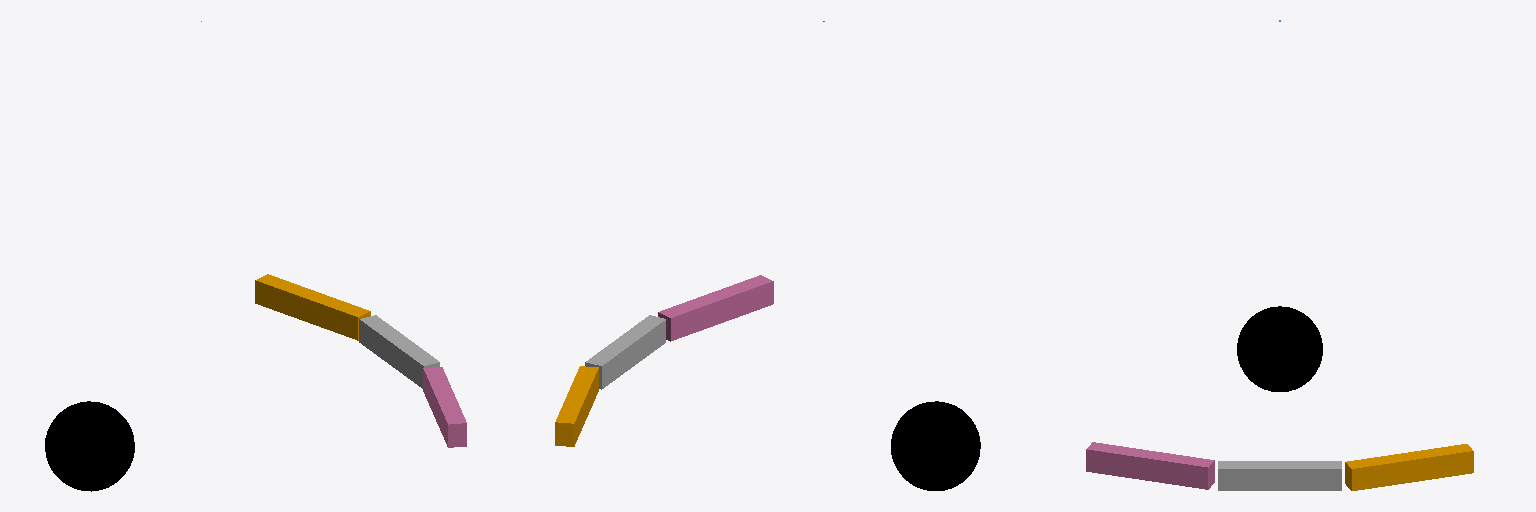
URDF robot description (evarobot):
<?xml version="1.0"?>
<robot name="evarobot">

<!-- Base -->
  <link name="base_link">
    <collision>
      <origin rpy="0 0 0" xyz="0 0 0"/>
      <geometry>
	<box size="0.30 0.251 0.3005"/>
      </geometry>
    </collision>

    <visual>
     <origin xyz="0.05 0 -0.1475" rpy="0 0 1.5708" /> 
      <geometry>
        <mesh filename="package://evarobot_description/meshes/evarobot_all.stl" scale="0.001 0.001 0.001"/> 
      </geometry>
      <material name="blue">
        <color rgba="0 0 .8 1"/>
      </material>
    </visual>

    <inertial>
      <origin xyz="0 0 0" rpy="0 0 0"/>
      <mass value="5"/>
      <inertia
        ixx="5.0" ixy="0.0" ixz="0.0"
        iyy="5.0" iyz="0.0"
        izz="5.0"/>
    </inertial>
  </link>

<!-- Left Wheel -->
    
   <link name="left_front_wheel">
    <collision>
      <origin rpy="1.57075 0 0" xyz="0 0 0"/>
      <geometry>
        <cylinder length=".024" radius="0.0675"/>
      </geometry>
    </collision>
    
<!--<visual>
	<origin rpy="0 -1.57075 0" xyz="0 0 +0.01"/>
      <geometry>
		 <cylinder length=".024" radius="0.0675"/>  
		     <mesh filename="package://evarobot_description/meshes/wheel.stl" scale="0.001 0.001 0.001"/>
      </geometry>
      <material name="black"/> 		
    </visual>-->
    
    <inertial>
      <origin xyz="0 0 0" rpy="0 0 0"/>
      <mass value="0.75"/>
      <inertia ixx="1e-2" ixy="0" ixz="0" iyy="1e-2" iyz="0" izz="1e-2" />
    </inertial>
    
  </link>
  
  <joint name="left_front_wheel_joint" type="continuous">
    <axis xyz="0 1 0"/>
    <parent link="base_link"/>
    <child link="left_front_wheel"/>
    <origin rpy="0 0 0" xyz="0.04975 0.1375 -0.11775"/>
    <limit effort="100" velocity="100"/>
    <joint_properties damping="0.0" friction="0.0"/>
  </joint>
 
 <!-- Sag Teker -->
 
   <link name="right_front_wheel">
	  <collision>
      <origin rpy="1.57075 0 0" xyz="0 0 0"/>
      <geometry>
        <cylinder length=".024" radius="0.0675"/>
      </geometry>
    </collision>
       
  <!--  <visual>
		<origin rpy="0 -1.57075 0" xyz="0 0 -0.01"/>
      <geometry>
     <cylinder length=".024" radius="0.0675"/> 
     <mesh filename="package://evarobot_description/meshes/wheel.stl" scale="0.001 0.001 0.001"/>
      </geometry>
      <material name="black"/> 		
    </visual>
    -->
    <inertial>
      <origin xyz="0 0 0" rpy="0 0 0"/>
      <mass value="0.75"/>
      <inertia ixx="1e-2" ixy="0" ixz="0" iyy="1e-2" iyz="0" izz="1e-2" />
    </inertial>
    
  </link>
  
  <joint name="right_front_wheel_joint" type="continuous">
    <axis xyz="0 1 0"/>
    <parent link="base_link"/>
    <child link="right_front_wheel"/>
    <origin rpy="0 0 0" xyz="0.04975 -0.1375 -0.11775"/>
    <limit effort="100" velocity="100"/>
    <joint_properties damping="0.0" friction="0.0"/>
  </joint>
  
 
   <!-- Caster -->
  <link name="caster_wheel">
	<collision>
      <origin rpy="0 0 0" xyz="0 0 0"/>
      <geometry>
        <sphere radius="0.035"/>
      </geometry>
    </collision>
    	  
    <visual>
      <geometry>
        <sphere radius="0.035"/>
      </geometry>
      <material name="black">
        <color rgba="0 0 0 1"/>
      </material>
    </visual>
    
    <inertial>
      <origin xyz="0 0 0" rpy="0 0 0"/>
      <mass value="5"/>
      <inertia ixx="1e-6" ixy="0" ixz="0" iyy="1e-6" iyz="0" izz="1e-6" />
    </inertial>
  </link>
  

  
  <joint name="caster_wheel_joint" type="continuous">
    <parent link="base_link"/>
    <child link="caster_wheel"/>
    <origin rpy="-1.57075 0 0" xyz="-0.1 0 -0.15025"/>
 <!--   <axis xyz="0.707106781 0 0.707106781"/> -->
    <axis xyz="0.577350269 0.577350269 0.577350269"/>
    <limit effort="100" velocity="100"/>
    <joint_properties damping="0.0" friction="0.0"/>
  </joint>


  
  <!-- Hokuyo Laser -->
<!--  <link name="laser">
    <collision>
      <origin xyz="0 0 0" rpy="0 0 0"/>
      <geometry>
    <box size="0.1 0.1 0.1"/>
      </geometry>
    </collision>

    <visual>
      <origin xyz="0 0 0" rpy="0 0 0"/>
      <geometry>
        <mesh filename="package://evarobot_description/meshes/hokuyo.dae"/>
      </geometry>
    </visual>

    <inertial>
      <mass value="1e-5" />
      <origin xyz="0 0 0" rpy="0 0 0"/>
      <inertia ixx="1e-6" ixy="0" ixz="0" iyy="1e-6" iyz="0" izz="1e-6" />
    </inertial>
  </link>
  
  -->

  <!-- Hokuyo Laser -->
<!-- 
  <joint name="hokuyo_joint" type="fixed">
    <axis xyz="0 1 0" />
    <origin xyz="-0.09 0 0.4275" rpy="0 0 -1.5708"/>
    <parent link="base_link"/>
    <child link="laser"/>
  </joint>
  -->


  <link name="camera_depth_optical_frame">
    <collision>
      <origin xyz="0 0 0" rpy="0 0 0"/>
      <geometry>
    <box size="0.1 0.1 0.1"/>
      </geometry>
    </collision>


    <inertial>
      <mass value="1e-5" />
      <origin xyz="0 0 0" rpy="0 0 0"/>
      <inertia ixx="1e-6" ixy="0" ixz="0" iyy="1e-6" iyz="0" izz="1e-6" />
    </inertial>
  </link>
  
  <!-- Kinect joint -->
   <joint name="kinect_jointx" type="fixed">
    <axis xyz="0 1 0" />
    <origin xyz="-0.09 0 0.4275" rpy="-1.5707  0 -1.5707"/>
    <parent link="base_link"/>
    <child link="camera_depth_optical_frame"/>
  </joint>

  
 <!-- Kinect Link -->
  <link name="sensor/kinect">
    <collision>
      <origin xyz="0 0 0" rpy="0 0 0"/>
      <geometry>
    <box size="0.1 0.1 0.1"/>
      </geometry>
    </collision>

    <visual>
      <origin xyz="0 0 0" rpy="0 0 0"/>
      <geometry>
        <mesh filename="package://evarobot_description/meshes/kinect.dae"/>
      </geometry>
    </visual>

    <inertial>
      <mass value="1e-5" />
      <origin xyz="0 0 0" rpy="0 0 0"/>
      <inertia ixx="1e-6" ixy="0" ixz="0" iyy="1e-6" iyz="0" izz="1e-6" />
    </inertial>
  </link>
  
  <!-- Kinect joint -->
   <joint name="kinect_joint" type="fixed">
    <axis xyz="0 1 0" />
    <origin xyz="-0.09 0 0.4275" rpy="0 0 0"/>
    <parent link="base_link"/>
    <child link="sensor/kinect"/>
  </joint>
  

<!-- ////////////////////////////////////////////////////////////////// -->
<!-- ////////////////////////////   BUMPER   ////////////////////////// -->
<!-- ////////////////////////////////////////////////////////////////// -->

<!-- Bumper0 Link -->
  <link name="bumper0">
    <collision>
      <origin xyz="0 0 0" rpy="0 0 0"/>
      <geometry>
		<box size="0.015 0.105 0.020"/>
      </geometry>
    </collision>

    <visual>
      <origin xyz="0 0 0" rpy="0 0 0"/>
      <geometry>
		<box size="0.015 0.105 0.020"/>
      </geometry>
    </visual>

    <inertial>
      <mass value="1e-5" />
      <origin xyz="0 0 0" rpy="0 0 0"/>
      <inertia ixx="1e-6" ixy="0" ixz="0" iyy="1e-6" iyz="0" izz="1e-6" />
    </inertial>
  </link>
  
  <!-- Bumper0 joint -->
   <joint name="bumper0_joint" type="fixed">
    <axis xyz="0 1 0" />
    <origin xyz="0.1575 -0.105 -0.1345" rpy="0 0 -0.34"/>
    <parent link="base_link"/>
    <child link="bumper0"/>
  </joint>
  

<!-- Bumper1 Link -->
  <link name="bumper1">
    <collision>
      <origin xyz="0 0 0" rpy="0 0 0"/>
      <geometry>
		<box size="0.015 0.10 0.020"/>
      </geometry>
    </collision>

    <visual>
      <origin xyz="0 0 0" rpy="0 0 0"/>
      <geometry>
		<box size="0.015 0.10 0.020"/>
      </geometry>
    </visual>

    <inertial>
      <mass value="1e-5" />
      <origin xyz="0 0 0" rpy="0 0 0"/>
      <inertia ixx="1e-6" ixy="0" ixz="0" iyy="1e-6" iyz="0" izz="1e-6" />
    </inertial>
  </link>
  
  <!-- Bumper1 joint -->
   <joint name="bumper1_joint" type="fixed">
    <axis xyz="0 1 0" />
    <origin xyz="0.1775 0 -0.1345" rpy="0 0 0"/>
    <parent link="base_link"/>
    <child link="bumper1"/>
  </joint>
  
<!-- Bumper2 Link -->
  <link name="bumper2">
    <collision>
      <origin xyz="0 0 0" rpy="0 0 0"/>
      <geometry>
		<box size="0.015 0.105 0.020"/>
      </geometry>
    </collision>

    <visual>
      <origin xyz="0 0 0" rpy="0 0 0"/>
      <geometry>
		<box size="0.015 0.105 0.020"/>
      </geometry>
    </visual>

    <inertial>
      <mass value="1e-5" />
      <origin xyz="0 0 0" rpy="0 0 0"/>
      <inertia ixx="1e-6" ixy="0" ixz="0" iyy="1e-6" iyz="0" izz="1e-6" />
    </inertial>
  </link>
  
  <!-- Bumper2 joint -->
   <joint name="bumper2_joint" type="fixed">
    <axis xyz="0 1 0" />
    <origin xyz="0.1605 0.105 -0.1345" rpy="0 0 0.34"/>
    <parent link="base_link"/>
    <child link="bumper2"/>
  </joint>
	
<!-- ////////////////////////////////////////////////////////////////// -->
<!-- ////////////////////////   BUMPER (END) ////////////////////////// -->
<!-- ////////////////////////////////////////////////////////////////// -->


  <joint name="imu_joint" type="fixed">
    <axis xyz="1 0 0"/> <!-- 0 1 0 -->
    <origin xyz="0 0 0.19"/>
    <parent link="base_link"/>
    <child link="sensor/imu"/>
  </joint>


<link name="sensor/imu">
  <inertial>
    <mass value="0.001"/>
    <origin rpy="0 0 0" xyz="0 0 0"/>
    <inertia ixx="0.0001" ixy="0" ixz="0" iyy="0.000001" iyz="0" izz="0.0001"/>
  </inertial>
  <visual>
    <origin rpy="0 0 0" xyz="0 0 0"/>
    <geometry>
      <box size="0.001 0.001 0.001"/>
    </geometry>
  </visual>
  <collision>
    <origin rpy="0 0 0" xyz="0 0 0"/>
    <geometry>
      <box size=".001 .001 .001"/>
    </geometry>
  </collision>
</link>


<!-- SONAR -->


  <joint name="sonar0_joint" type="fixed">
    <axis xyz="1 0 0"/> <!-- 0 1 0 -->
    <origin xyz="0.14 0 0.0275" rpy="0 0 0"/>
    <parent link="base_link"/>
    <child link="sensor/sonar0"/>
  </joint>

<link name="sensor/sonar0">
      <inertial>
        <mass value="0.001" />
        <origin xyz="0 0 0" rpy="0 0 0" />
        <inertia ixx="0.000000017" ixy="0" ixz="0" iyy="0.000000017" iyz="0" izz="0.000000017" />
      </inertial>
      <visual>
        <origin xyz="0 0 0" rpy="0 0 0" />
        <geometry>
          <mesh filename="package://evarobot_description/meshes/sonar_sensor/max_sonar_ez4.dae"/>
        </geometry>
      </visual>
      <collision>
        <origin xyz="0 0 0" rpy="0 0 0" />
        <geometry>
          <box size="0.01 0.01 0.01" />
        </geometry>
      </collision>
    </link>

   
    <!-- Sonar 1 -->
  <joint name="sonar1_joint" type="fixed">
    <axis xyz="1 0 0"/> <!-- 0 1 0 -->
    <origin xyz="0.0 0.145 0.0275" rpy="0 0 1.5708"/>
    <parent link="base_link"/>
    <child link="sensor/sonar1"/>
  </joint>

<link name="sensor/sonar1">
      <inertial>
        <mass value="0.001" />
        <origin xyz="0 0 0" rpy="0 0 0" />
        <inertia ixx="0.000000017" ixy="0" ixz="0" iyy="0.000000017" iyz="0" izz="0.000000017" />
      </inertial>
      <visual>
        <origin xyz="0 0 0" rpy="0 0 0" />
        <geometry>
          <mesh filename="package://evarobot_description/meshes/sonar_sensor/max_sonar_ez4.dae"/>
        </geometry>
      </visual>
      <collision>
        <origin xyz="0 0 0" rpy="0 0 0" />
        <geometry>
          <box size="0.01 0.01 0.01" />
        </geometry>
      </collision>
    </link>
    
      <!-- Sonar 2 -->
  <joint name="sonar2_joint" type="fixed">
    <axis xyz="1 0 0"/> <!-- 0 1 0 -->
     <origin xyz="-0.14 0 0.0275" rpy="0 0 3.1416"/>
    <parent link="base_link"/>
    <child link="sensor/sonar2"/>
  </joint>

<link name="sensor/sonar2">
      <inertial>
        <mass value="0.001" />
        <origin xyz="0 0 0" rpy="0 0 0" />
        <inertia ixx="0.000000017" ixy="0" ixz="0" iyy="0.000000017" iyz="0" izz="0.000000017" />
      </inertial>
      <visual>
        <origin xyz="0 0 0" rpy="0 0 0" />
        <geometry>
          <mesh filename="package://evarobot_description/meshes/sonar_sensor/max_sonar_ez4.dae"/>
        </geometry>
      </visual>
      <collision>
        <origin xyz="0 0 0" rpy="0 0 0" />
        <geometry>
          <box size="0.01 0.01 0.01" />
        </geometry>
      </collision>
    </link>

  
     <!-- Sonar 3 -->
  <joint name="sonar3_joint" type="fixed">
    <axis xyz="1 0 0"/> <!-- 0 1 0 -->
    <origin xyz="0.0 -0.145 0.0275" rpy="0 0 -1.5708"/>
    <parent link="base_link"/>
    <child link="sensor/sonar3"/>
  </joint>

<link name="sensor/sonar3">
      <inertial>
        <mass value="0.001" />
        <origin xyz="0 0 0" rpy="0 0 0" />
        <inertia ixx="0.000000017" ixy="0" ixz="0" iyy="0.000000017" iyz="0" izz="0.000000017" />
      </inertial>
      <visual>
        <origin xyz="0 0 0" rpy="0 0 0" />
        <geometry>
          <mesh filename="package://evarobot_description/meshes/sonar_sensor/max_sonar_ez4.dae"/>
        </geometry>
      </visual>
      <collision>
        <origin xyz="0 0 0" rpy="0 0 0" />
        <geometry>
          <box size="0.01 0.01 0.01" />
        </geometry>
      </collision>
    </link>

   
     <!-- IR 0 -->
  <joint name="ir0_joint" type="fixed">
    <axis xyz="1 0 0"/> <!-- 0 1 0 -->
    <origin xyz="0.1175 -0.085 -0.1075" rpy="0 0 -0.60"/>
    <parent link="base_link"/>
    <child link="sensor/ir0"/>
  </joint>

<link name="sensor/ir0">
      <inertial>
        <mass value="0.001" />
        <origin xyz="0 0 0" rpy="0 0 0" />
        <inertia ixx="0.000000017" ixy="0" ixz="0" iyy="0.000000017" iyz="0" izz="0.000000017" />
      </inertial>
      <visual>
        <origin xyz="0 0 0" rpy="0 0 0" />
        <geometry>
          <mesh filename="package://evarobot_description/meshes/sonar_sensor/max_sonar_ez4.dae"/>
        </geometry>
      </visual>
      <collision>
        <origin xyz="0 0 0" rpy="0 0 0" />
        <geometry>
          <box size="0.01 0.01 0.01" />
        </geometry>
      </collision>
    </link>

   
    <!-- IR 1 -->
  <joint name="ir1_joint" type="fixed">
    <axis xyz="1 0 0"/> <!-- 0 1 0 -->
    <origin xyz="0.1475 0 -0.1075" rpy="0 0 0"/>
    <parent link="base_link"/>
    <child link="sensor/ir1"/>
  </joint>

<link name="sensor/ir1">
      <inertial>
        <mass value="0.001" />
        <origin xyz="0 0 0" rpy="0 0 0" />
        <inertia ixx="0.000000017" ixy="0" ixz="0" iyy="0.000000017" iyz="0" izz="0.000000017" />
      </inertial>
      <visual>
        <origin xyz="0 0 0" rpy="0 0 0" />
        <geometry>
          <mesh filename="package://evarobot_description/meshes/sonar_sensor/max_sonar_ez4.dae"/>
        </geometry>
      </visual>
      <collision>
        <origin xyz="0 0 0" rpy="0 0 0" />
        <geometry>
          <box size="0.01 0.01 0.01" />
        </geometry>
      </collision>
    </link>

 
    
    <!-- IR 2 -->
  <joint name="ir2_joint" type="fixed">
    <axis xyz="1 0 0"/> <!-- 0 1 0 -->
    <origin xyz="0.1225 0.085 -0.1075" rpy="0 0 0.60"/>
    <parent link="base_link"/>
    <child link="sensor/ir2"/>
  </joint>

<link name="sensor/ir2">
      <inertial>
        <mass value="0.001" />
        <origin xyz="0 0 0" rpy="0 0 0" />
        <inertia ixx="0.000000017" ixy="0" ixz="0" iyy="0.000000017" iyz="0" izz="0.000000017" />
      </inertial>
      <visual>
        <origin xyz="0 0 0" rpy="0 0 0" />
        <geometry>
          <mesh filename="package://evarobot_description/meshes/sonar_sensor/max_sonar_ez4.dae"/>
        </geometry>
      </visual>
      <collision>
        <origin xyz="0 0 0" rpy="0 0 0" />
        <geometry>
          <box size="0.01 0.01 0.01" />
        </geometry>
      </collision>
</link>

 
    

</robot>

--- Render facts (derived) ---
Views: 3 orthographic renders of the robot side by side, from view 1: azimuth 30°, elevation 25°; view 2: azimuth 150°, elevation 25°; view 3: azimuth 270°, elevation 25°.
Model evarobot with 17 links and 16 joints (3 continuous, 13 fixed), rooted at base_link, posed all joints at 0.
Links seen in each view (by area): view 1: caster_wheel, bumper2, bumper1, bumper0; view 2: caster_wheel, bumper0, bumper1, bumper2; view 3: caster_wheel, bumper0, bumper2, bumper1.
Boxes of the visible links, x1,y1,x2,y2 form: caster_wheel: [45, 401, 134, 491]; bumper2: [255, 274, 370, 340]; bumper1: [359, 315, 439, 388]; bumper0: [423, 367, 466, 447]; caster_wheel: [891, 401, 980, 490]; bumper0: [658, 275, 773, 341]; bumper1: [585, 315, 665, 389]; bumper2: [555, 366, 598, 446]; caster_wheel: [1237, 306, 1322, 391]; bumper0: [1086, 442, 1214, 489]; bumper2: [1345, 444, 1473, 490]; bumper1: [1218, 461, 1341, 490].
Bounding box of the posed robot: 0.3201 × 0.314 × 0.3758 m (x, y, z).
0 mesh visuals loaded from 3 distinct referenced files (none loaded); not drawn: 9 (reference not matched to a file when rendering).